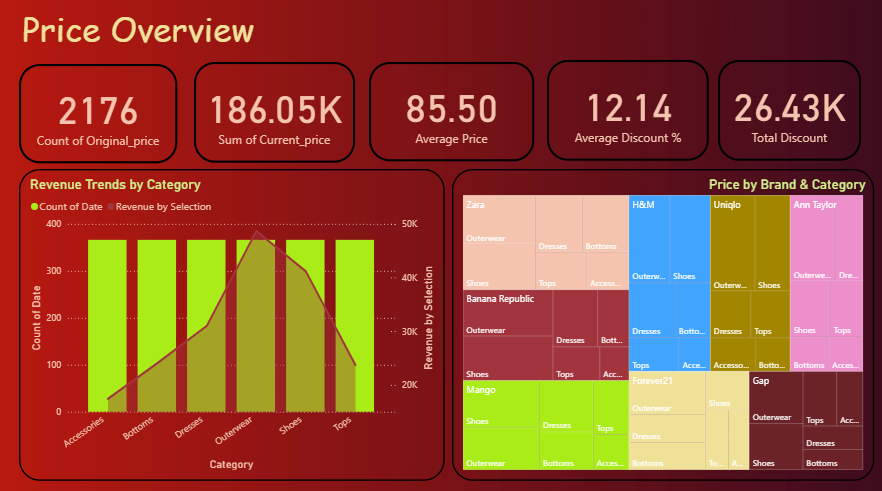

This screenshot's page, from the dashboard's own definition file:
{"tool":"powerbi","page":{"name":"Pricing","canvas":[1280,720],"ordinal":4},"visuals":[{"type":"card","fields":{"Values":["Sum(Fashion_Data.Current_price)"]},"box":[288,96.5,231.8,145.4],"z":0},{"type":"card","fields":{"Values":["CountNonNull(Fashion_Data.Original_price)"]},"box":[36,99.4,227.5,142.6],"z":1000},{"type":"card","fields":{"Values":["Fashion_Data.Total Discount"]},"box":[1042.6,93.6,205.9,145.4],"z":2000},{"type":"card","fields":{"Values":["Fashion_Data.Average Discount"]},"box":[796.3,93.6,233.3,145.4],"z":3000},{"type":"treemap","title":"Price by Brand & Category","fields":{"Group":["Fashion_Data.Brand"],"Values":["Sum(Fashion_Data.Current_price)"],"Details":["Fashion_Data.Category"]},"box":[659.5,250.6,607.7,449.3],"z":4000},{"type":"lineStackedColumnComboChart","title":"Revenue Trends by Category","fields":{"Category":["Fashion_Data.Category"],"Y2":["DateTable.Revenue by Selection"],"Y":["CountNonNull(DateTable.Date)"]},"box":[36,250.6,613.4,449.3],"z":5000},{"type":"card","fields":{"Values":["Fashion_Data.Avg Price"]},"box":[540,96.5,237.6,142.6],"z":6000},{"type":"textbox","box":[36,10.1,368.6,83.5],"z":7000}]}

Visuals, with their boxes in screenshot pixels (x1, y1, x2, y2), scaled from the page's 1280x720 canvas onto the 882x491 screenshot:
card - Sum(Fashion_Data.Current_price): 198/66/358/165
card - CountNonNull(Fashion_Data.Original_price): 25/68/182/165
card - Fashion_Data.Total Discount: 718/64/860/163
card - Fashion_Data.Average Discount: 549/64/709/163
"Price by Brand & Category" treemap: 454/171/873/477
"Revenue Trends by Category" lineStackedColumnComboChart: 25/171/447/477
card - Fashion_Data.Avg Price: 372/66/536/163
textbox: 25/7/279/64
